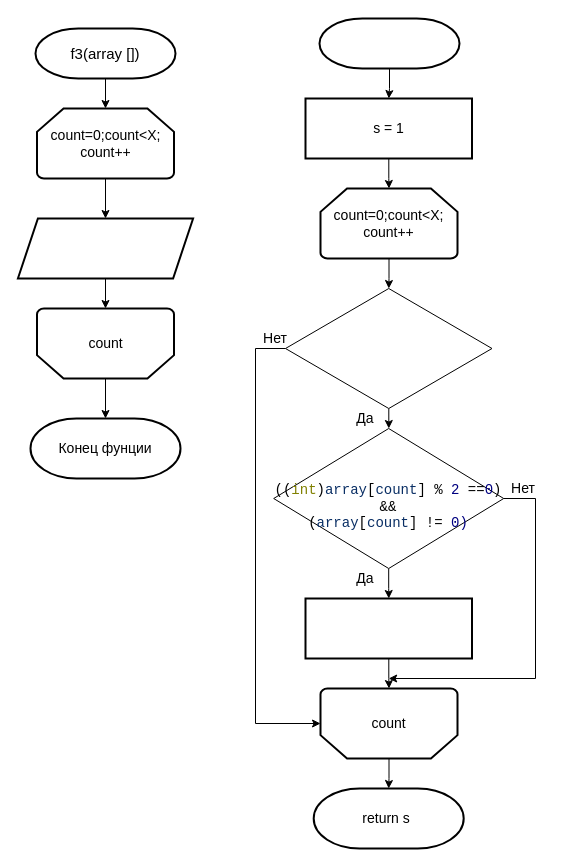
The diagram is 562 pixels wide and 866 high, and some of its shapes have lost their labels. Each missing label, with the centre of its shape:
"( int ) array [ count ] == array [ count ]" belongs at (388,348).
"f4(int array [])" belongs at (389,43).
"s *= ( int ) array [ count ]" belongs at (388,628).
"Виведення count, array[count]" belongs at (105,248).
